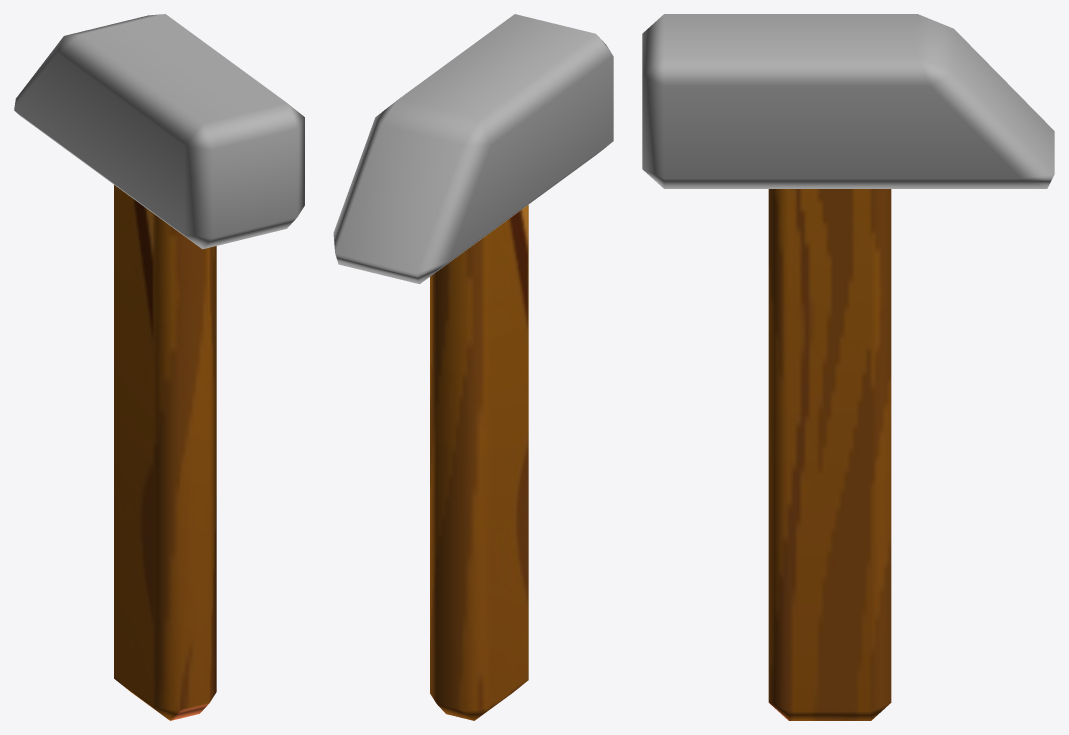
File: hammer.fbx
3 renders of one model, left to right at view 1: azimuth 30°, elevation 25°; view 2: azimuth 150°, elevation 25°; view 3: azimuth 270°, elevation 25°, orthographic. The views are drawn at different scales.
Visible parts, largest first — view 1: hammer; view 2: hammer; view 3: hammer.
Boxes of the visible parts, bbox=[...] form: hammer: bbox=[14, 14, 304, 720]; hammer: bbox=[333, 14, 613, 720]; hammer: bbox=[642, 14, 1054, 720].
Size of the model in its own units: 0.1454 by 0.4119 by 0.7472.
